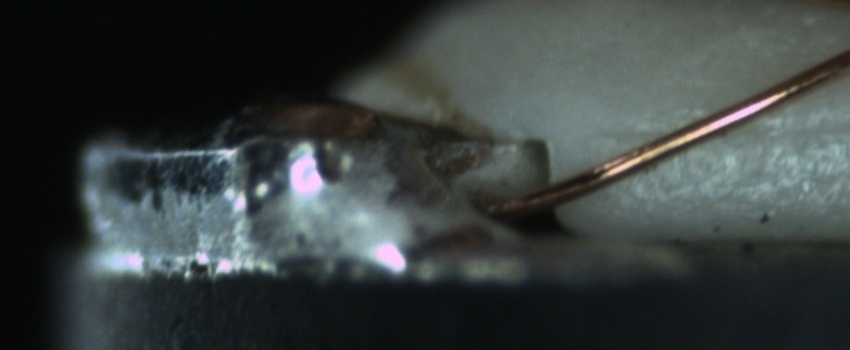DL: (609, 95, 849, 163)
